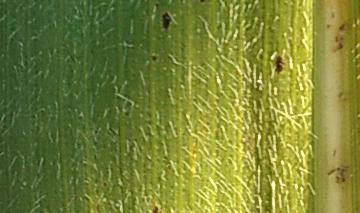tarspot: (159, 9, 175, 36), (269, 51, 286, 76), (146, 50, 162, 66), (148, 202, 164, 213), (152, 1, 162, 11), (195, 1, 211, 7)
